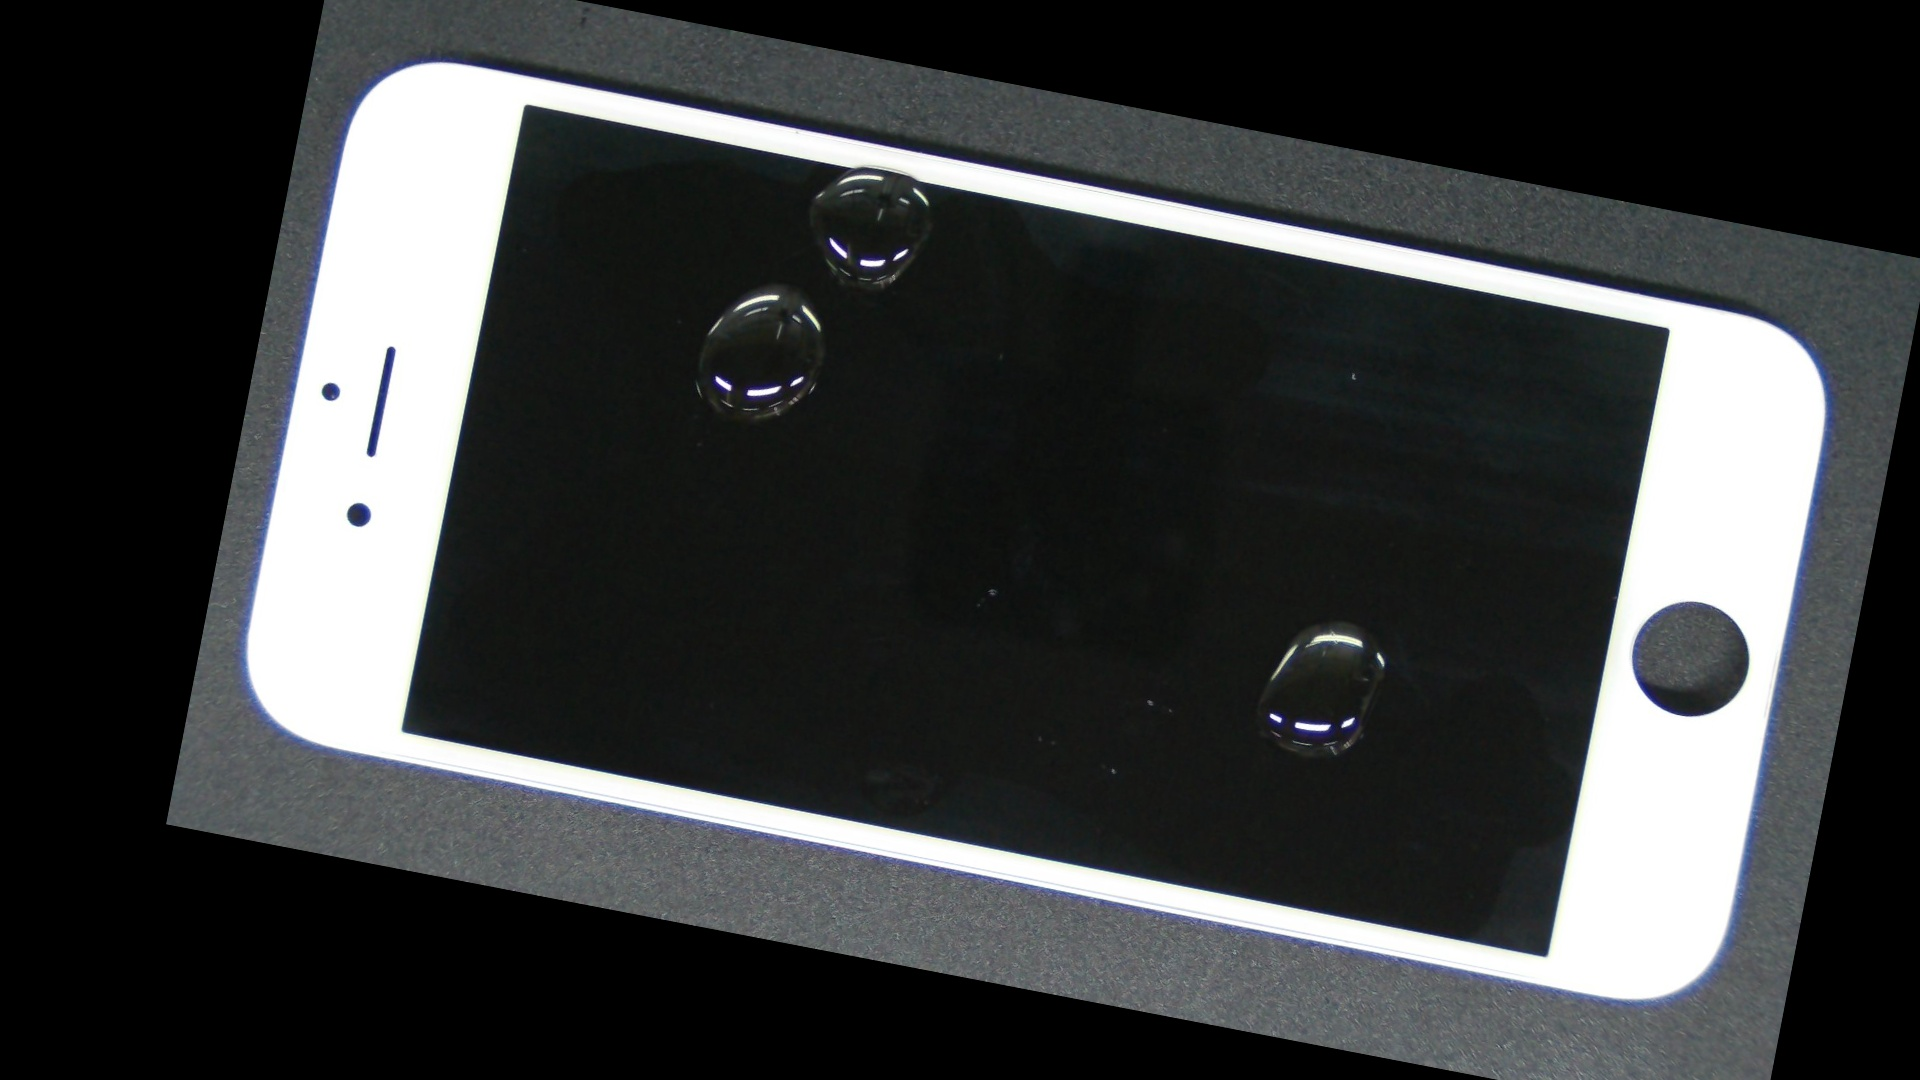oil: (753, 287, 1884, 945), (513, 119, 1052, 448), (589, 59, 1180, 273)
